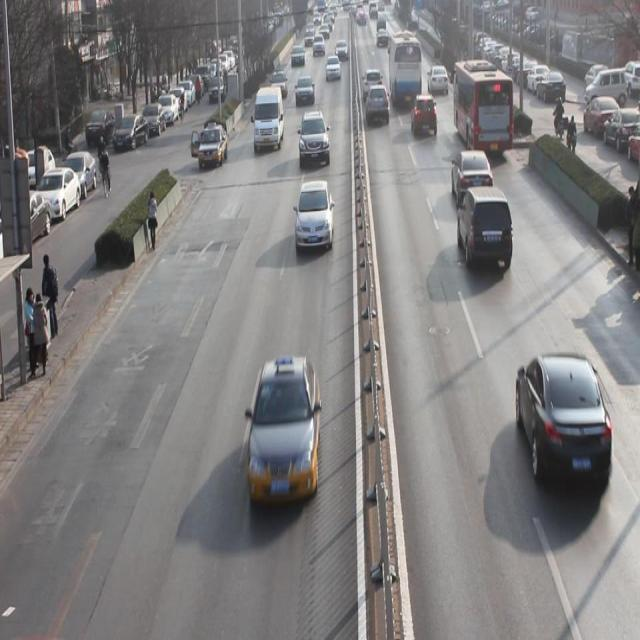car: (516, 351, 612, 496), (245, 359, 322, 509), (456, 188, 514, 278), (296, 183, 336, 260), (450, 150, 493, 203), (298, 110, 331, 171), (199, 127, 228, 168), (412, 94, 439, 135), (367, 86, 390, 130), (363, 67, 383, 102), (427, 64, 449, 94), (294, 77, 314, 107), (270, 68, 288, 100), (325, 56, 340, 83)
truck: (252, 88, 285, 153)
van: (454, 60, 513, 155), (388, 32, 422, 105)
